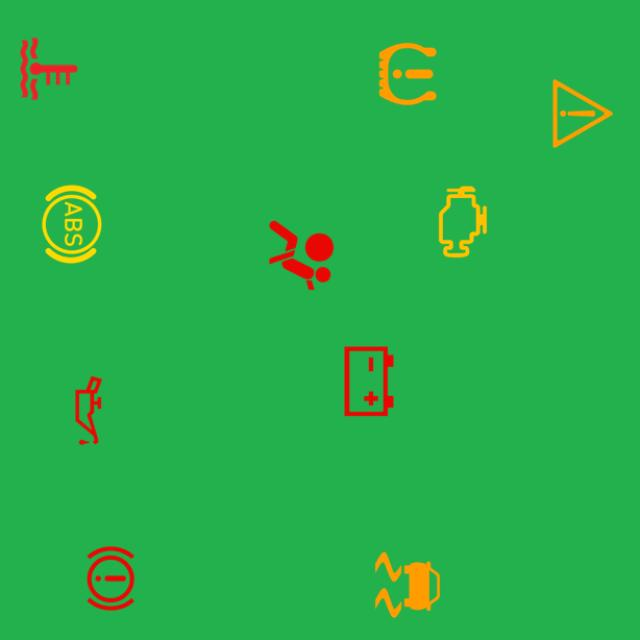Anti Lock Braking System: (29, 181, 115, 267)
Braking System Issue: (68, 536, 153, 621)
Charging System Issue: (326, 339, 412, 424)
Check Engine: (420, 179, 506, 265)
Electronic Stability Problem -ESP-: (365, 542, 450, 628)
Engine Overheating Warning Light: (6, 26, 92, 112)
Low Engine Oil Warning Light: (46, 368, 131, 453)
Low Tire Pressure Warning Light: (365, 31, 450, 117)
Master warning light: (540, 71, 625, 156)
SRS-Airbag: (258, 213, 344, 298)
